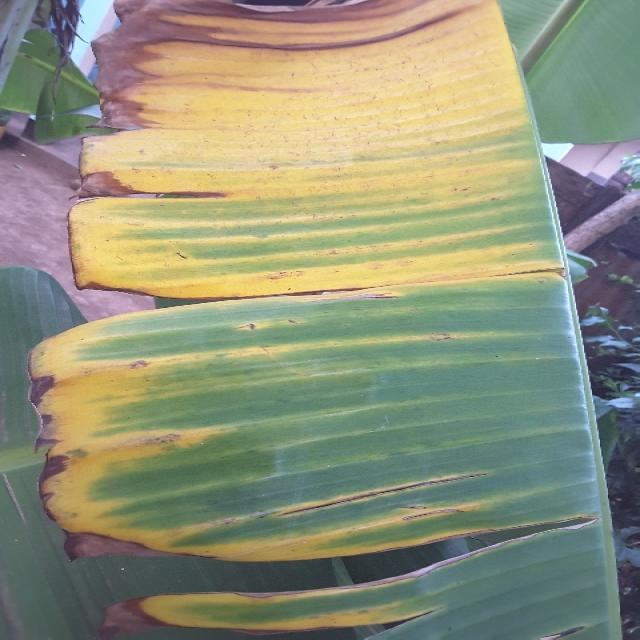Cordana: (11, 297, 556, 640), (0, 0, 560, 296)
